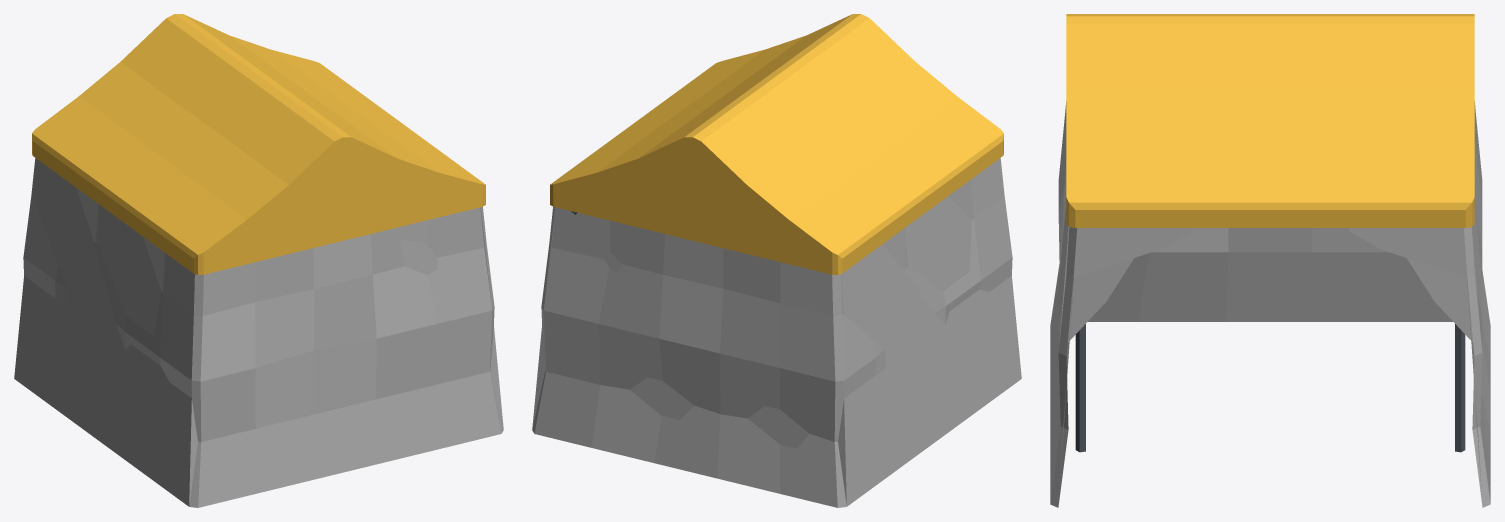
File: rowtentopen2.fbx
3 renders of one model, left to right at view 1: azimuth 30°, elevation 25°; view 2: azimuth 150°, elevation 25°; view 3: azimuth 270°, elevation 25°, orthographic. The views are drawn at different scales.
Visible parts, largest first — view 1: 立方体.001, 立方体; view 2: 立方体.001, 立方体; view 3: 立方体, 立方体.001, 円柱.
Boxes of the visible parts, x1,y1,x2,y2 form: 立方体.001: (14,158,503,507); 立方体: (32,14,485,274); 立方体.001: (532,158,1021,507); 立方体: (550,14,1003,274); 立方体: (1066,14,1474,227); 立方体.001: (1050,101,1490,507); 円柱: (1075,324,1465,452).
Size of the model in its own units: 216 by 215 by 216.
